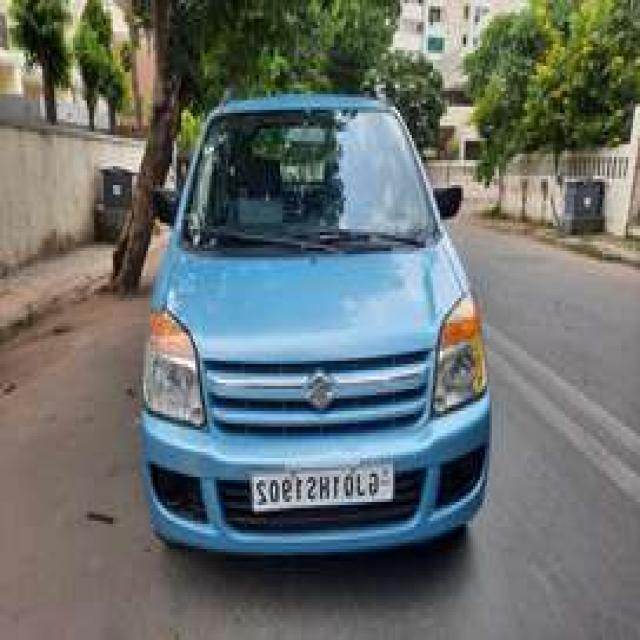license_plate: (247, 458, 398, 516)
